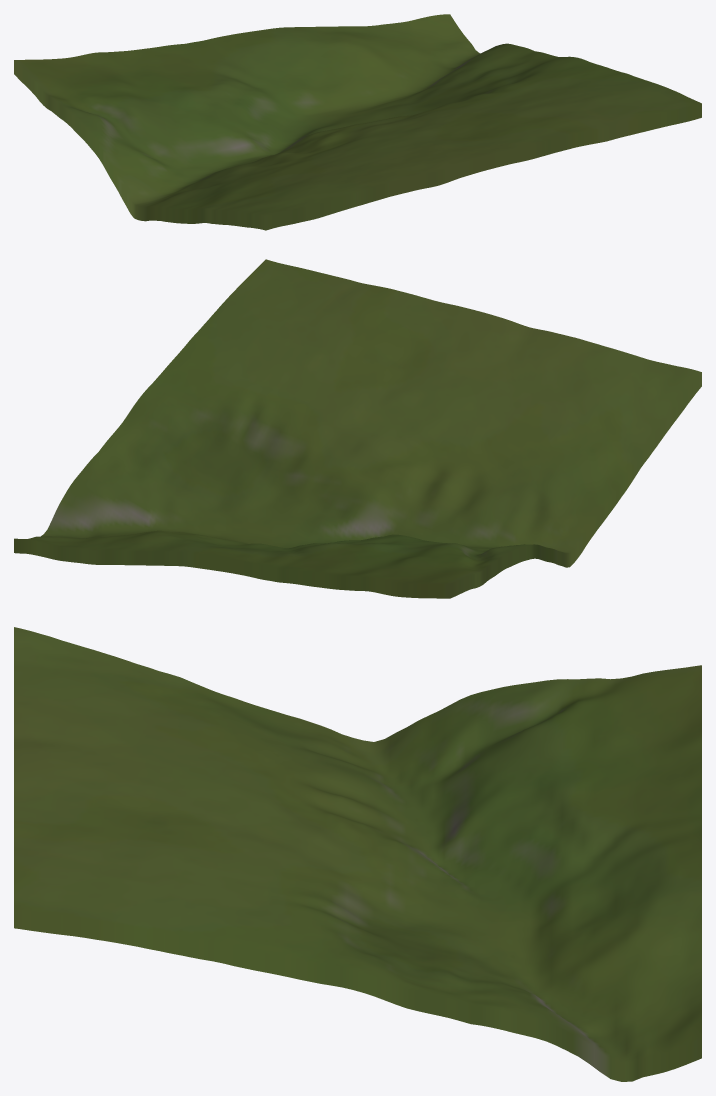
The model's file is terrain_6_-11.glb.
3 views of the same model, one above another, from view 1: azimuth 30°, elevation 25°; view 2: azimuth 150°, elevation 25°; view 3: azimuth 270°, elevation 25° (orthographic). The views are drawn at different scales.
Parts seen in each view (by area): view 1: terrain_6_-11; view 2: terrain_6_-11; view 3: terrain_6_-11.
Boxes of the visible parts, bbox=[...] form: terrain_6_-11: bbox=[14, 14, 701, 230]; terrain_6_-11: bbox=[14, 259, 701, 598]; terrain_6_-11: bbox=[14, 627, 701, 1081].
Bounding box in the file's own units: 256 × 71.59 × 256.
